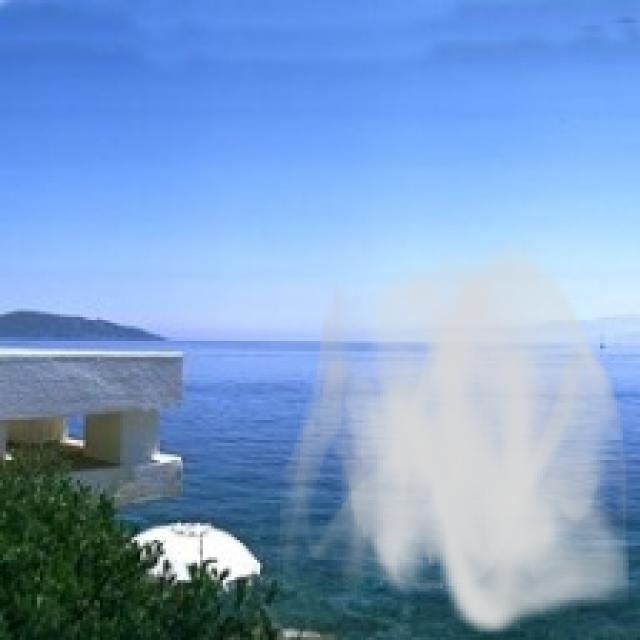Smoke: (274, 235, 637, 640)
